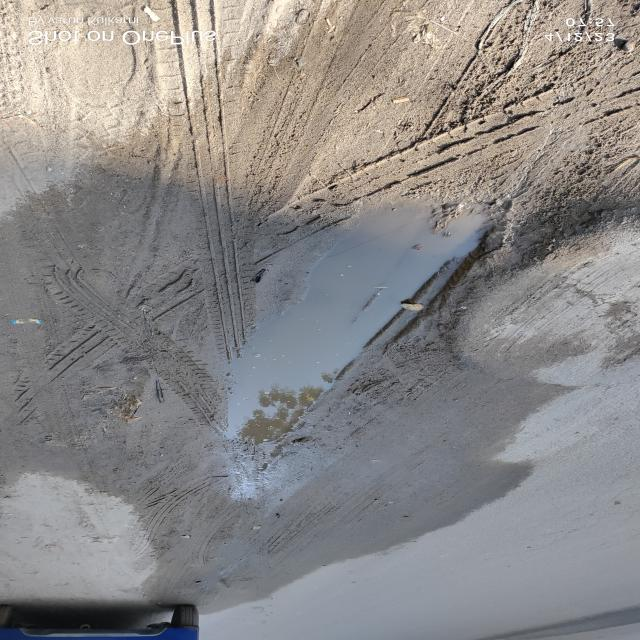Puddle pothole: (272, 171, 478, 478)
